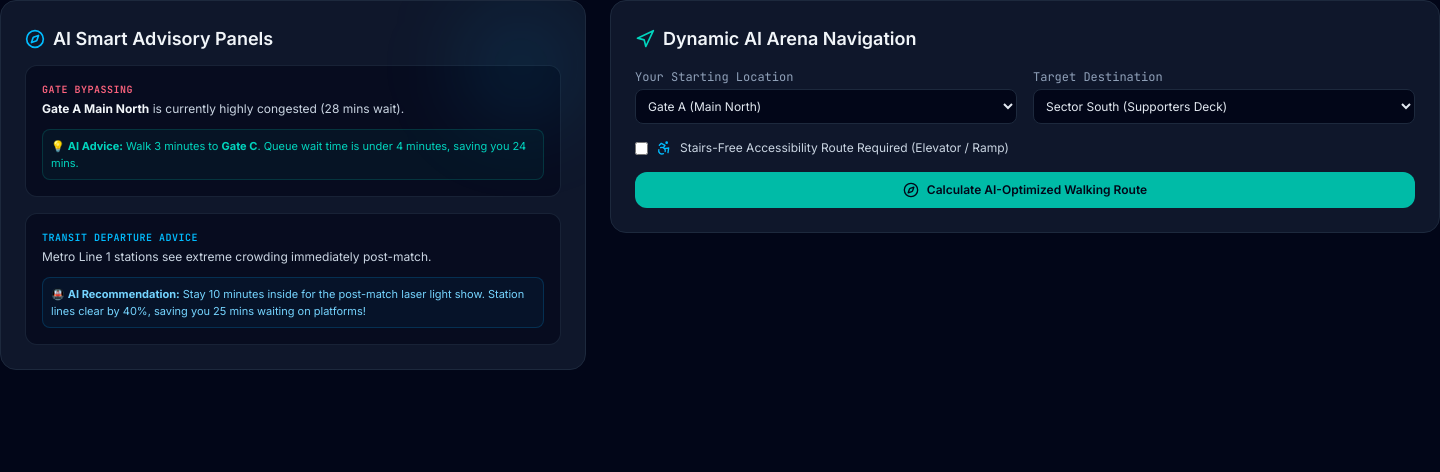
Test case: FanApp Portal › tests routing api fallback logic when fetch fails
Click the button "Calculate AI-Optimized Walking Route" at (1025, 190), box [635,172,1415,208]
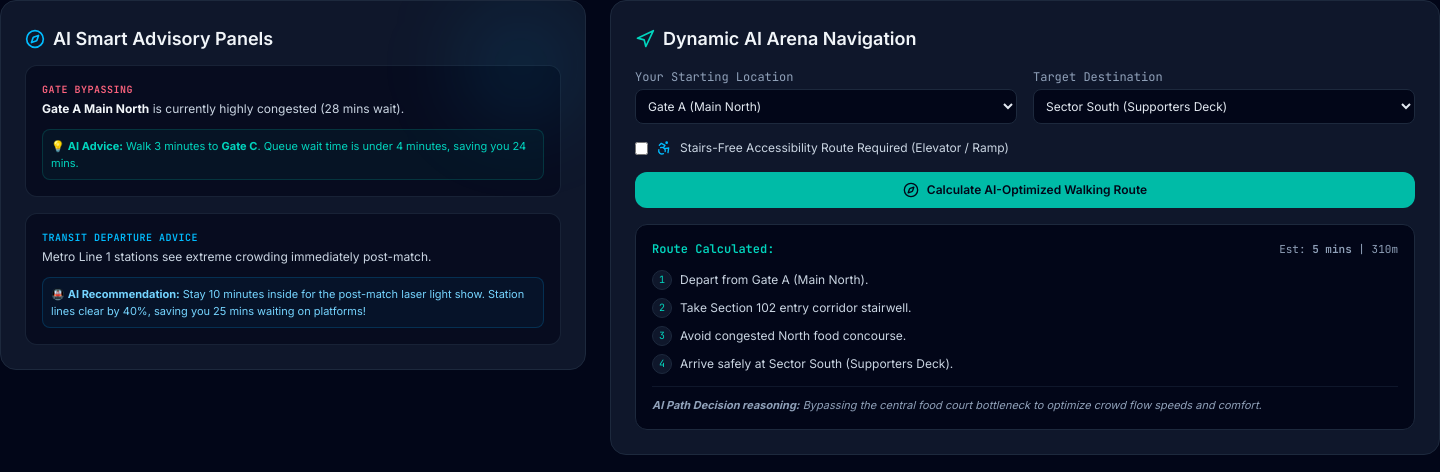
Now the text "Bypassing the central food court bottleneck" is shown, box [803,398,1262,412]
Now the text "Depart from Gate A (Main North)." is shown, box [680,270,868,288]
